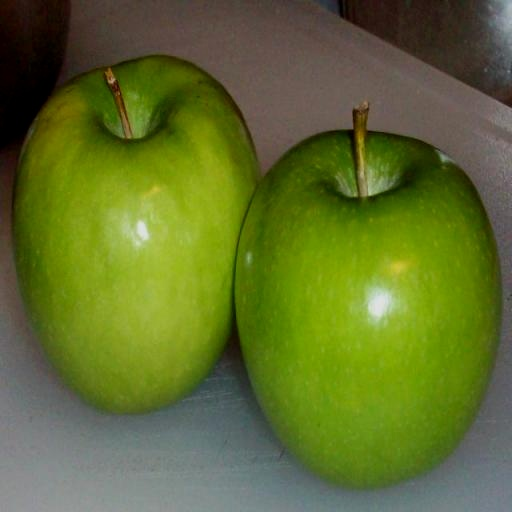fruit: (236, 132, 501, 487), (13, 56, 257, 412)
